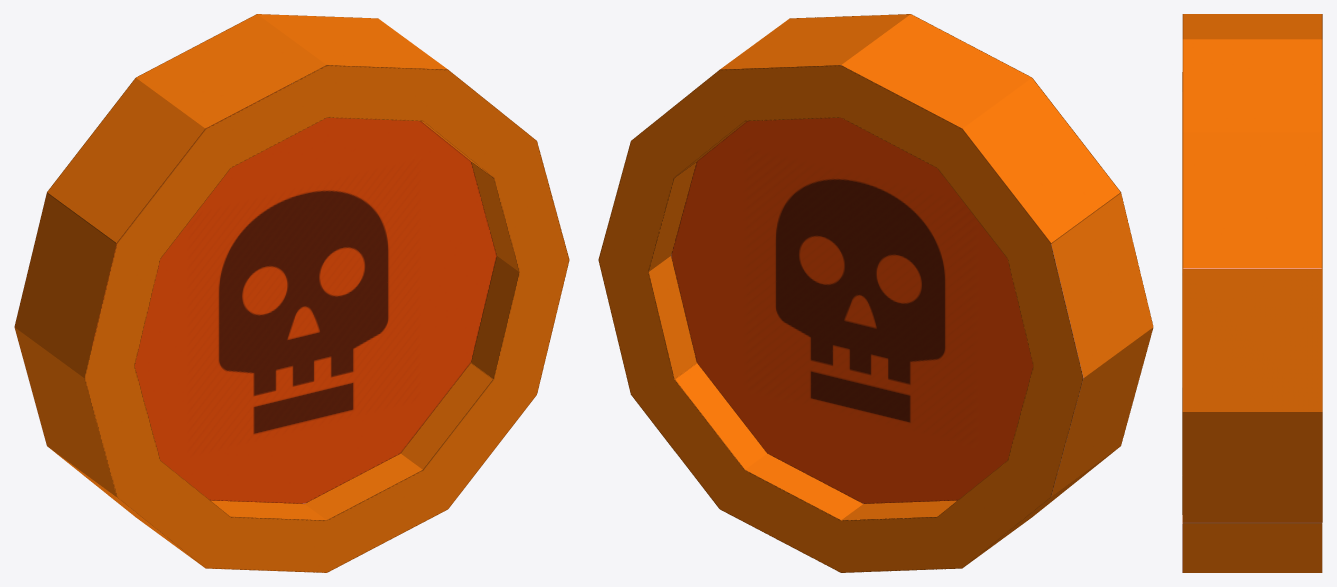
File: Coin 1.fbx
3 renders of one model, left to right at view 1: azimuth 30°, elevation 25°; view 2: azimuth 150°, elevation 25°; view 3: azimuth 270°, elevation 25°, orthographic.
Parts seen in each view (by area): view 1: pCylinder1; view 2: pCylinder1; view 3: pCylinder1.
Part boxes in pixels (x1,y1,x2,y2): pCylinder1: [14, 14, 569, 572]; pCylinder1: [598, 14, 1153, 572]; pCylinder1: [1182, 14, 1322, 572].
Bounding box in the file's own units: 0.02 × 0.02 × 0.005.
2 materials, 2 textured.
